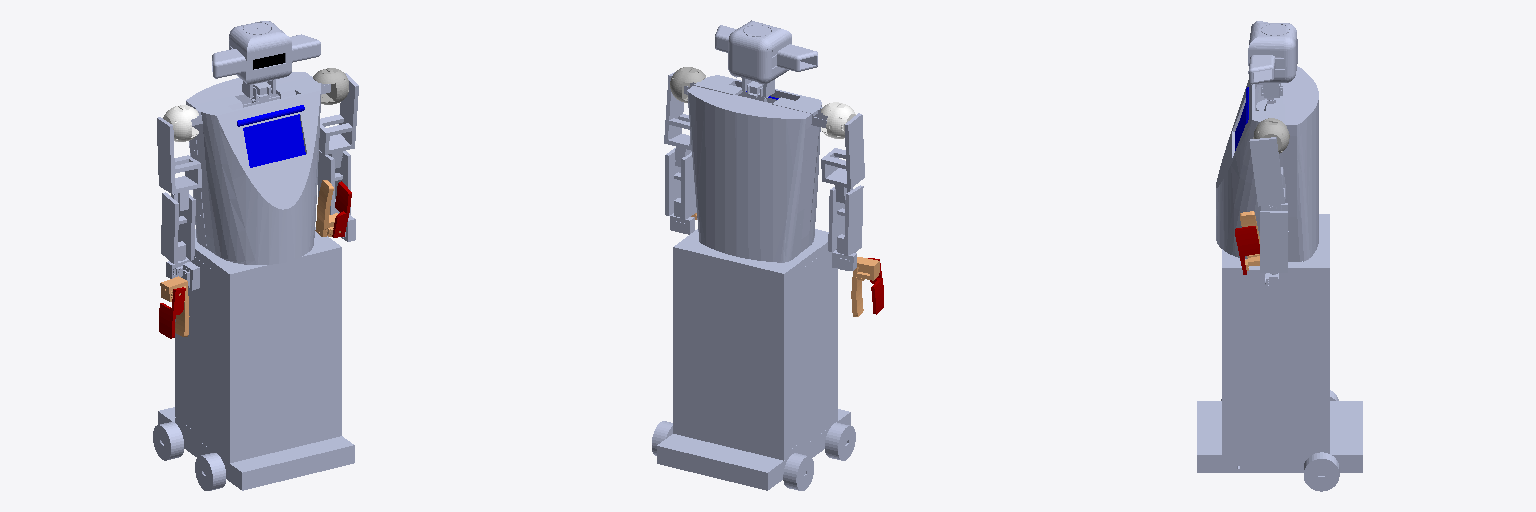
--- Render facts (derived) ---
Views: 3 orthographic renders of the robot side by side, from view 1: azimuth 30°, elevation 25°; view 2: azimuth 150°, elevation 25°; view 3: azimuth 270°, elevation 25°.
Robot: ardop3 — 24 links, 23 joints (20 continuous, 3 fixed); root link odom; default pose: all joints at 0.
Visible links, largest first — view 1: base_link, neck_head_connector_Link, tab_Link, bicep_right_Link, forearm_right_Link, bicep_left_Link, forearm_left_Link, wheel_back_right_Link, wheel_front_right_Link, shoulder_right_Link, shoulder_left_Link, wrist3_left_Link (+3 smaller); view 2: base_link, neck_head_connector_Link, bicep_right_Link, forearm_right_Link, forearm_left_Link, bicep_left_Link, wheel_front_right_Link, wheel_back_right_Link, wrist3_right_Link, shoulder_right_Link, shoulder_left_Link; view 3: base_link, neck_head_connector_Link, bicep_left_Link, forearm_left_Link, wheel_back_left_Link, shoulder_left_Link, end_effector_left_Link.
Boxes of the visible links, bbox=[...] form: base_link: bbox=[158, 72, 354, 490]; neck_head_connector_Link: bbox=[212, 21, 320, 97]; tab_Link: bbox=[237, 105, 305, 167]; bicep_right_Link: bbox=[157, 117, 201, 210]; forearm_right_Link: bbox=[161, 192, 195, 263]; bicep_left_Link: bbox=[319, 73, 358, 168]; forearm_left_Link: bbox=[318, 150, 350, 214]; wheel_back_right_Link: bbox=[153, 422, 183, 460]; wheel_front_right_Link: bbox=[195, 453, 225, 490]; shoulder_right_Link: bbox=[163, 105, 198, 141]; shoulder_left_Link: bbox=[313, 68, 348, 104]; wrist3_left_Link: bbox=[315, 180, 340, 236]; base_link: bbox=[657, 75, 850, 490]; neck_head_connector_Link: bbox=[715, 20, 817, 97]; bicep_right_Link: bbox=[821, 113, 864, 203]; forearm_right_Link: bbox=[828, 185, 863, 255]; forearm_left_Link: bbox=[665, 148, 696, 219]; bicep_left_Link: bbox=[664, 72, 691, 166]; wheel_front_right_Link: bbox=[825, 423, 855, 460]; wheel_back_right_Link: bbox=[783, 453, 813, 490]; wrist3_right_Link: bbox=[851, 257, 879, 316]; shoulder_right_Link: bbox=[821, 102, 855, 138]; shoulder_left_Link: bbox=[670, 67, 705, 102]; base_link: bbox=[1197, 66, 1362, 472]; neck_head_connector_Link: bbox=[1248, 21, 1297, 97]; bicep_left_Link: bbox=[1249, 137, 1285, 210]; forearm_left_Link: bbox=[1260, 203, 1287, 274]; wheel_back_left_Link: bbox=[1304, 452, 1339, 491]; shoulder_left_Link: bbox=[1253, 118, 1289, 153]; end_effector_left_Link: bbox=[1235, 226, 1259, 274].
Bounding box of the posed robot: 0.6288 × 0.46 × 1.3 m (x, y, z).
22 mesh visuals loaded from 23 distinct referenced files (22 binary STL); not drawn: 1 (reference not matched to a file when rendering).

URDF robot description (ardop3):
<robot
  name="ardop3">
    <link name="odom" />

  <link
    name="base_link">
    <inertial>
      <origin
        xyz="0.41454 0.49117 0.81833"
        rpy="0 0 0" />
      <mass
        value="82.585" />
      <inertia
        ixx="3.8983"
        ixy="0.029109"
        ixz="0.0006329"
        iyy="0.052412"
        iyz="-0.087697"
        izz="3.8519" />
    </inertial>
    <visual>
      <origin
        xyz="0 0 0"
        rpy="0 0 0" />
      <geometry>
        <mesh
          filename="package://ardop3/meshes/base_link.STL" />
      </geometry>
      <material
        name="">
        <color
          rgba="0.79216 0.81961 0.93333 1" />
      </material>
    </visual>
    <collision>
      <origin
        xyz="0 0 0"
        rpy="0 0 0" />
      <geometry>
        <mesh
          filename="package://ardop3/meshes/base_link.STL" />
      </geometry>
    </collision>
  </link>

      <joint
    name="odom_joint"
    type="fixed">
    <parent
      link="odom" />
    <child
      link="base_link" />
  </joint>

  
  <link
    name="tab_Link">
    <inertial>
      <origin
        xyz="3.4719E-08 0.014469 0.0053272"
        rpy="0 0 0" />
      <mass
        value="0.27518" />
      <inertia
        ixx="0"
        ixy="0"
        ixz="0"
        iyy="0"
        iyz="0"
        izz="0" />
    </inertial>
    <visual>
      <origin
        xyz="0 0 0"
        rpy="0 0 0" />
      <geometry>
        <mesh
          filename="package://ardop3/meshes/tab_Link.STL" />
      </geometry>
      <material
        name="">
        <color
          rgba="0 0 1 1" />
      </material>
    </visual>
    <collision>
      <origin
        xyz="0 0 0"
        rpy="0 0 0" />
      <geometry>
        <mesh
          filename="package://ardop3/meshes/tab_Link.STL" />
      </geometry>
    </collision>
  </link>
  <joint
    name="tab_joint"
    type="fixed">
    <origin
      xyz="0.40839 -0.90482 1.0827"
      rpy="1.2278 0 0" />
    <parent
      link="base_link" />
    <child
      link="tab_Link" />
    <axis
      xyz="0 0 0" />
  </joint>
  <link
    name="wheel_front_left_Link">
    <inertial>
      <origin
        xyz="1.1102E-16 0 0.020968"
        rpy="0 0 0" />
      <mass
        value="0.32836" />
      <inertia
        ixx="0"
        ixy="0"
        ixz="0"
        iyy="0"
        iyz="0"
        izz="0" />
    </inertial>
    <visual>
      <origin
        xyz="0 0 0"
        rpy="0 0 0" />
      <geometry>
        <mesh
          filename="package://ardop3/meshes/wheel_front_left_Link.STL" />
      </geometry>
      <material
        name="">
        <color
          rgba="0.79216 0.81961 0.93333 1" />
      </material>
    </visual>
    <collision>
      <origin
        xyz="0 0 0"
        rpy="0 0 0" />
      <geometry>
        <mesh
          filename="package://ardop3/meshes/wheel_front_left_Link.STL" />
      </geometry>
    </collision>
  </link>
  <joint
    name="wheel_front_left_joint"
    type="continuous">
    <origin
      xyz="0.60454 -0.92284 0.13262"
      rpy="1.5708 6.123E-17 1.5708" />
    <parent
      link="base_link" />
    <child
      link="wheel_front_left_Link" />
    <axis
      xyz="0 0 1" />
  </joint>
  <link
    name="wheel_front_right_Link">
    <inertial>
      <origin
        xyz="0 0 -0.021032"
        rpy="0 0 0" />
      <mass
        value="0.32836" />
      <inertia
        ixx="0"
        ixy="0"
        ixz="0"
        iyy="0"
        iyz="0"
        izz="0" />
    </inertial>
    <visual>
      <origin
        xyz="0 0 0"
        rpy="0 0 0" />
      <geometry>
        <mesh
          filename="package://ardop3/meshes/wheel_front_right_Link.STL" />
      </geometry>
      <material
        name="">
        <color
          rgba="0.79216 0.81961 0.93333 1" />
      </material>
    </visual>
    <collision>
      <origin
        xyz="0 0 0"
        rpy="0 0 0" />
      <geometry>
        <mesh
          filename="package://ardop3/meshes/wheel_front_right_Link.STL" />
      </geometry>
    </collision>
  </link>
  <joint
    name="wheel_front_right_joint"
    type="continuous">
    <origin
      xyz="0.18354 -0.92284 0.13262"
      rpy="1.5708 -0.080947 -1.5708" />
    <parent
      link="base_link" />
    <child
      link="wheel_front_right_Link" />
    <axis
      xyz="0 0 -1" />
  </joint>
  <link
    name="wheel_back_left_Link">
    <inertial>
      <origin
        xyz="0 0 0.020968"
        rpy="0 0 0" />
      <mass
        value="0.32836" />
      <inertia
        ixx="0"
        ixy="0"
        ixz="0"
        iyy="0"
        iyz="0"
        izz="0" />
    </inertial>
    <visual>
      <origin
        xyz="0 0 0"
        rpy="0 0 0" />
      <geometry>
        <mesh
          filename="package://ardop3/meshes/wheel_back_left_Link.STL" />
      </geometry>
      <material
        name="">
        <color
          rgba="0.79216 0.81961 0.93333 1" />
      </material>
    </visual>
    <collision>
      <origin
        xyz="0 0 0"
        rpy="0 0 0" />
      <geometry>
        <mesh
          filename="package://ardop3/meshes/wheel_back_left_Link.STL" />
      </geometry>
    </collision>
  </link>
  <joint
    name="wheel_back_left_joint"
    type="continuous">
    <origin
      xyz="0.60454 -0.69284 0.13262"
      rpy="1.5708 6.123E-17 1.5708" />
    <parent
      link="base_link" />
    <child
      link="wheel_back_left_Link" />
    <axis
      xyz="0 0 1" />
  </joint>
  <link
    name="wheel_back_right_Link">
    <inertial>
      <origin
        xyz="0 1.3878E-16 -0.021032"
        rpy="0 0 0" />
      <mass
        value="0.32836" />
      <inertia
        ixx="0"
        ixy="0"
        ixz="0"
        iyy="0"
        iyz="0"
        izz="0" />
    </inertial>
    <visual>
      <origin
        xyz="0 0 0"
        rpy="0 0 0" />
      <geometry>
        <mesh
          filename="package://ardop3/meshes/wheel_back_right_Link.STL" />
      </geometry>
      <material
        name="">
        <color
          rgba="0.79216 0.81961 0.93333 1" />
      </material>
    </visual>
    <collision>
      <origin
        xyz="0 0 0"
        rpy="0 0 0" />
      <geometry>
        <mesh
          filename="package://ardop3/meshes/wheel_back_right_Link.STL" />
      </geometry>
    </collision>
  </link>
  <joint
    name="wheel_back_right_joint"
    type="continuous">
    <origin
      xyz="0.18354 -0.69284 0.13262"
      rpy="-1.5708 6.123E-17 1.5708" />
    <parent
      link="base_link" />
    <child
      link="wheel_back_right_Link" />
    <axis
      xyz="0 0 -1" />
  </joint>
  <link
    name="neck_body_connector_Link">
    <inertial>
      <origin
        xyz="-0.0040697 0.0056315 -0.011816"
        rpy="0 0 0" />
      <mass
        value="0.046364" />
      <inertia
        ixx="0"
        ixy="0"
        ixz="0"
        iyy="0"
        iyz="0"
        izz="0" />
    </inertial>
    <visual>
      <origin
        xyz="0 0 0"
        rpy="0 0 0" />
      <geometry>
        <mesh
          filename="package://ardop3/meshes/neck_body_connector_Link.STL" />
      </geometry>
      <material
        name="">
        <color
          rgba="0.79216 0.81961 0.93333 1" />
      </material>
    </visual>
    <collision>
      <origin
        xyz="0 0 0"
        rpy="0 0 0" />
      <geometry>
        <mesh
          filename="package://ardop3/meshes/neck_body_connector_Link.STL" />
      </geometry>
    </collision>
  </link>
  <joint
    name="neck_body_connector_joint"
    type="continuous">
    <origin
      xyz="0.42327 -0.83378 1.1876"
      rpy="-3.1416 -6.1133E-17 -1.6271" />
    <parent
      link="base_link" />
    <child
      link="neck_body_connector_Link" />
    <axis
      xyz="0 0 -1" />
  </joint>
  <link
    name="neck_head_connector_Link">
    <inertial>
      <origin
        xyz="-0.012053 0.10794 -0.0062672"
        rpy="0 0 0" />
      <mass
        value="0.82631" />
      <inertia
        ixx="0"
        ixy="0"
        ixz="0"
        iyy="0"
        iyz="0"
        izz="0" />
    </inertial>
    <visual>
      <origin
        xyz="0 0 0"
        rpy="0 0 0" />
      <geometry>
        <mesh
          filename="package://ardop3/meshes/neck_head_connector_Link.STL" />
      </geometry>
      <material
        name="">
        <color
          rgba="0.79216 0.81961 0.93333 1" />
      </material>
    </visual>
    <collision>
      <origin
        xyz="0 0 0"
        rpy="0 0 0" />
      <geometry>
        <mesh
          filename="package://ardop3/meshes/neck_head_connector_Link.STL" />
      </geometry>
    </collision>
  </link>
  <joint
    name="neck_head_connector_joint"
    type="continuous">
    <origin
      xyz="0.0060459 0 -0.015"
      rpy="-1.5556 2.3333E-15 -1.5708" />
    <parent
      link="neck_body_connector_Link" />
    <child
      link="neck_head_connector_Link" />
    <axis
      xyz="1 0 0" />
  </joint>
  <link
    name="kinect_Link">
    <inertial>
      <origin
        xyz="0 4.4409E-16 0.015"
        rpy="0 0 0" />
      <mass
        value="0.1386" />
      <inertia
        ixx="0"
        ixy="0"
        ixz="0"
        iyy="0"
        iyz="0"
        izz="0" />
    </inertial>
    <visual>
      <origin
        xyz="0 0 0"
        rpy="0 0 0" />
      <geometry>
        <mesh
          filename="package://ardop3/meshes/kinect_Link.STL" />
      </geometry>
      <material
        name="">
        <color
          rgba="0 0 0 1" />
      </material>
    </visual>
    <collision>
      <origin
        xyz="0 0 0"
        rpy="0 0 0" />
      <geometry>
        <mesh
          filename="package://ardop3/meshes/kinect_Link.STL" />
      </geometry>
    </collision>
  </link>
  <joint
    name="kinect_joint"
    type="fixed">
    <origin
      xyz="-0.012068 0.10537 0.015436"
      rpy="1.7347E-18 1.1081E-14 2.1684E-19" />
    <parent
      link="neck_head_connector_Link" />
    <child
      link="kinect_Link" />
    <axis
      xyz="0 0 0" />
  </joint>
  <link
    name="shoulder_right_Link">
    <inertial>
      <origin
        xyz="-0.054055 -0.0035027 -0.03567"
        rpy="0 0 0" />
      <mass
        value="0.38237" />
      <inertia
         ixx="0"
        ixy="0"
        ixz="0"
        iyy="0"
        iyz="0"
        izz="0" />
    </inertial>
    <visual>
      <origin
        xyz="0 0 0"
        rpy="0 0 0" />
      <geometry>
        <mesh
          filename="package://ardop3/meshes/shoulder_right_Link.STL" />
      </geometry>
      <material
        name="">
        <color
          rgba="1 1 1 1" />
      </material>
    </visual>
    <collision>
      <origin
        xyz="0 0 0"
        rpy="0 0 0" />
      <geometry>
        <mesh
          filename="package://ardop3/meshes/shoulder_right_Link.STL" />
      </geometry>
    </collision>
  </link>
  <joint
    name="shoulder_right_joint"
    type="continuous">
    <origin
      xyz="0.18926 -0.83378 1.1036"
      rpy="0.029291 1.5708 0" />
    <parent
      link="base_link" />
    <child
      link="shoulder_right_Link" />
    <axis
      xyz="-1 0 0" />
  </joint>
  <link
    name="bicep_right_Link">
    <inertial>
      <origin
        xyz="0.048238 -0.13163 -0.0040227"
        rpy="0 0 0" />
      <mass
        value="0.43786" />
      <inertia
        ixx="0"
        ixy="0"
        ixz="0"
        iyy="0"
        iyz="0"
        izz="0" />
    </inertial>
    <visual>
      <origin
        xyz="0 0 0"
        rpy="0 0 0" />
      <geometry>
        <mesh
          filename="package://ardop3/meshes/bicep_right_Link.STL" />
      </geometry>
      <material
        name="">
        <color
          rgba="0.79216 0.81961 0.93333 1" />
      </material>
    </visual>
    <collision>
      <origin
        xyz="0 0 0"
        rpy="0 0 0" />
      <geometry>
        <mesh
          filename="package://ardop3/meshes/bicep_right_Link.STL" />
      </geometry>
    </collision>
  </link>
  <joint
    name="bicep_right_joint"
    type="continuous">
    <origin
      xyz="-0.05 0 0"
      rpy="-2.6369 1.5708 -1.1356" />
    <parent
      link="shoulder_right_Link" />
    <child
      link="bicep_right_Link" />
    <axis
      xyz="-1 0 0" />
  </joint>
  <link
    name="forearm_right_Link">
    <inertial>
      <origin
        xyz="0.0012325 -0.085388 0.031906"
        rpy="0 0 0" />
      <mass
        value="0.38487" />
      <inertia
        ixx="0"
        ixy="0"
        ixz="0"
        iyy="0"
        iyz="0"
        izz="0" />
    </inertial>
    <visual>
      <origin
        xyz="0 0 0"
        rpy="0 0 0" />
      <geometry>
        <mesh
          filename="package://ardop3/meshes/forearm_right_Link.STL" />
      </geometry>
      <material
        name="">
        <color
          rgba="0.79216 0.81961 0.93333 1" />
      </material>
    </visual>
    <collision>
      <origin
        xyz="0 0 0"
        rpy="0 0 0" />
      <geometry>
        <mesh
          filename="package://ardop3/meshes/forearm_right_Link.STL" />
      </geometry>
    </collision>
  </link>
  <joint
    name="forearm_right_joint"
    type="continuous">
    <origin
      xyz="0.011917 -0.21965 -0.0040232"
      rpy="-1.5708 1.4544 -1.5708" />
    <parent
      link="bicep_right_Link" />
    <child
      link="forearm_right_Link" />
    <axis
      xyz="0 0 -1" />
  </joint>
  <link
    name="wrist_right_Link">
    <inertial>
      <origin
        xyz="0.024413 -0.0086014 0.0033587"
        rpy="0 0 0" />
      <mass
        value="0.081001" />
      <inertia
        ixx="0"
        ixy="0"
        ixz="0"
        iyy="0"
        iyz="0"
        izz="0" />
    </inertial>
    <visual>
      <origin
        xyz="0 0 0"
        rpy="0 0 0" />
      <geometry>
        <mesh
          filename="package://ardop3/meshes/wrist_right_Link.STL" />
      </geometry>
      <material
        name="">
        <color
          rgba="0.79216 0.81961 0.93333 1" />
      </material>
    </visual>
    <collision>
      <origin
        xyz="0 0 0"
        rpy="0 0 0" />
      <geometry>
        <mesh
          filename="package://ardop3/meshes/wrist_right_Link.STL" />
      </geometry>
    </collision>
  </link>
  <joint
    name="wrist_right_joint"
    type="continuous">
    <origin
      xyz="0.00057367 -0.1794 0.021586"
      rpy="-1.7316 5.3922E-15 -1.5708" />
    <parent
      link="forearm_right_Link" />
    <child
      link="wrist_right_Link" />
    <axis
      xyz="-1 0 0" />
  </joint>
  <link
    name="wrist2_right_Link">
    <inertial>
      <origin
        xyz="0.028488 -0.0089035 0.0033302"
        rpy="0 0 0" />
      <mass
        value="0.080909" />
      <inertia
        ixx="0"
        ixy="0"
        ixz="0"
        iyy="0"
        iyz="0"
        izz="0" />
    </inertial>
    <visual>
      <origin
        xyz="0 0 0"
        rpy="0 0 0" />
      <geometry>
        <mesh
          filename="package://ardop3/meshes/wrist2_right_Link.STL" />
      </geometry>
      <material
        name="">
        <color
          rgba="0.79216 0.81961 0.93333 1" />
      </material>
    </visual>
    <collision>
      <origin
        xyz="0 0 0"
        rpy="0 0 0" />
      <geometry>
        <mesh
          filename="package://ardop3/meshes/wrist2_right_Link.STL" />
      </geometry>
    </collision>
  </link>
  <joint
    name="wrist2_right_joint"
    type="continuous">
    <origin
      xyz="0.024386 0.0016124 0.019748"
      rpy="1.7471 -1.5708 -0.15866" />
    <parent
      link="wrist_right_Link" />
    <child
      link="wrist2_right_Link" />
    <axis
      xyz="1 0 0" />
  </joint>
  <link
    name="wrist3_right_Link">
    <inertial>
      <origin
        xyz="0.023195 0.046562 -0.00062623"
        rpy="0 0 0" />
      <mass
        value="0.19239" />
      <inertia
         ixx="0"
        ixy="0"
        ixz="0"
        iyy="0"
        iyz="0"
        izz="0"/>
    </inertial>
    <visual>
      <origin
        xyz="0 0 0"
        rpy="0 0 0" />
      <geometry>
        <mesh
          filename="package://ardop3/meshes/wrist3_right_Link.STL" />
      </geometry>
      <material
        name="">
        <color
          rgba="0.98824 0.73725 0.51765 1" />
      </material>
    </visual>
    <collision>
      <origin
        xyz="0 0 0"
        rpy="0 0 0" />
      <geometry>
        <mesh
          filename="package://ardop3/meshes/wrist3_right_Link.STL" />
      </geometry>
    </collision>
  </link>
  <joint
    name="wrist3_right_joint"
    type="continuous">
    <origin
      xyz="0.028461 -0.019105 0.024924"
      rpy="2.3694 -1.5708 0.82586" />
    <parent
      link="wrist2_right_Link" />
    <child
      link="wrist3_right_Link" />
    <axis
      xyz="-1 0 0" />
  </joint>
  <link
    name="end_effector_Link">
    <inertial>
      <origin
        xyz="0.0080676 -0.013847 0.066609"
        rpy="0 0 0" />
      <mass
        value="0.07271" />
      <inertia
        ixx="0"
        ixy="0"
        ixz="0"
        iyy="0"
        iyz="0"
        izz="0" />
    </inertial>
    <visual>
      <origin
        xyz="0 0 0"
        rpy="0 0 0" />
      <geometry>
        <mesh
          filename="package://ardop3/meshes/end_effector_Link.STL" />
      </geometry>
      <material
        name="">
        <color
          rgba="0.75294 0 0 1" />
      </material>
    </visual>
    <collision>
      <origin
        xyz="0 0 0"
        rpy="0 0 0" />
      <geometry>
        <mesh
          filename="package://ardop3/meshes/end_effector_Link.STL" />
      </geometry>
    </collision>
  </link>
  <joint
    name="end_effector_joint"
    type="continuous">
    <origin
      xyz="0.043144 0.012563 0"
      rpy="-1.5708 6.9944E-15 -0.14742" />
    <parent
      link="wrist3_right_Link" />
    <child
      link="end_effector_Link" />
    <axis
      xyz="0 -1 0" />
  </joint>
  <link
    name="shoulder_left_Link">
    <inertial>
      <origin
        xyz="-0.0034764 0.054056 -0.03567"
        rpy="0 0 0" />
      <mass
        value="0.38237" />
      <inertia
        ixx="0"
        ixy="0"
        ixz="0"
        iyy="0"
        iyz="0"
        izz="0" />
    </inertial>
    <visual>
      <origin
        xyz="0 0 0"
        rpy="0 0 0" />
      <geometry>
        <mesh
          filename="package://ardop3/meshes/shoulder_left_Link.STL" />
      </geometry>
      <material
        name="">
        <color
          rgba="0.75294 0.75294 0.75294 1" />
      </material>
    </visual>
    <collision>
      <origin
        xyz="0 0 0"
        rpy="0 0 0" />
      <geometry>
        <mesh
          filename="package://ardop3/meshes/shoulder_left_Link.STL" />
      </geometry>
    </collision>
  </link>
  <joint
    name="shoulder_left_joint"
    type="continuous">
    <origin
      xyz="0.60897 -0.83378 1.1041"
      rpy="1.5708 2.1771E-14 -1.6033" />
    <parent
      link="base_link" />
    <child
      link="shoulder_left_Link" />
    <axis
      xyz="0 1 0" />
  </joint>
  <link
    name="bicep_left_Link">
    <inertial>
      <origin
        xyz="0.048238 -0.12915 0.01578"
        rpy="0 0 0" />
      <mass
        value="0.43786" />
      <inertia
        ixx="0"
        ixy="0"
        ixz="0"
        iyy="0"
        iyz="0"
        izz="0" />
    </inertial>
    <visual>
      <origin
        xyz="0 0 0"
        rpy="0 0 0" />
      <geometry>
        <mesh
          filename="package://ardop3/meshes/bicep_left_Link.STL" />
      </geometry>
      <material
        name="">
        <color
          rgba="0.79216 0.81961 0.93333 1" />
      </material>
    </visual>
    <collision>
      <origin
        xyz="0 0 0"
        rpy="0 0 0" />
      <geometry>
        <mesh
          filename="package://ardop3/meshes/bicep_left_Link.STL" />
      </geometry>
    </collision>
  </link>
  <joint
    name="bicep_left_joint"
    type="continuous">
    <origin
      xyz="0 0.05 0"
      rpy="0.12075 1.5708 0" />
    <parent
      link="shoulder_left_Link" />
    <child
      link="bicep_left_Link" />
    <axis
      xyz="1 0 0" />
  </joint>
  <link
    name="forearm_left_Link">
    <inertial>
      <origin
        xyz="0.0012327 -0.085365 0.034419"
        rpy="0 0 0" />
      <mass
        value="0.38478" />
      <inertia
        ixx="0"
        ixy="0"
        ixz="0"
        iyy="0"
        iyz="0"
        izz="0" />
    </inertial>
    <visual>
      <origin
        xyz="0 0 0"
        rpy="0 0 0" />
      <geometry>
        <mesh
          filename="package://ardop3/meshes/forearm_left_Link.STL" />
      </geometry>
      <material
        name="">
        <color
          rgba="0.79216 0.81961 0.93333 1" />
      </material>
    </visual>
    <collision>
      <origin
        xyz="0 0 0"
        rpy="0 0 0" />
      <geometry>
        <mesh
          filename="package://ardop3/meshes/forearm_left_Link.STL" />
      </geometry>
    </collision>
  </link>
  <joint
    name="forearm_left_joint"
    type="continuous">
    <origin
      xyz="0.0094281 -0.21717 0.015779"
      rpy="-1.5708 1.45 -1.5708" />
    <parent
      link="bicep_left_Link" />
    <child
      link="forearm_left_Link" />
    <axis
      xyz="0 0 1" />
  </joint>
  <link
    name="wrist_left_Link">
    <inertial>
      <origin
        xyz="0.022027 -0.0088023 0.0033302"
        rpy="0 0 0" />
      <mass
        value="0.080909" />
      <inertia
        ixx="0"
        ixy="0"
        ixz="0"
        iyy="0"
        iyz="0"
        izz="0" />
    </inertial>
    <visual>
      <origin
        xyz="0 0 0"
        rpy="0 0 0" />
      <geometry>
        <mesh
          filename="package://ardop3/meshes/wrist_left_Link.STL" />
      </geometry>
      <material
        name="">
        <color
          rgba="0.79216 0.81961 0.93333 1" />
      </material>
    </visual>
    <collision>
      <origin
        xyz="0 0 0"
        rpy="0 0 0" />
      <geometry>
        <mesh
          filename="package://ardop3/meshes/wrist_left_Link.STL" />
      </geometry>
    </collision>
  </link>
  <joint
    name="wrist_left_joint"
    type="continuous">
    <origin
      xyz="0.00057367 -0.18179 0.044293"
      rpy="1.5383 0 -1.5708" />
    <parent
      link="forearm_left_Link" />
    <child
      link="wrist_left_Link" />
    <axis
      xyz="-1 0 0" />
  </joint>
  <link
    name="wrist2_left_Link">
    <inertial>
      <origin
        xyz="0.022027 0.0089035 -9.135E-05"
        rpy="0 0 0" />
      <mass
        value="0.080909" />
      <inertia
        ixx="0"
        ixy="0"
        ixz="0"
        iyy="0"
        iyz="0"
        izz="0" />
    </inertial>
    <visual>
      <origin
        xyz="0 0 0"
        rpy="0 0 0" />
      <geometry>
        <mesh
          filename="package://ardop3/meshes/wrist2_left_Link.STL" />
      </geometry>
      <material
        name="">
        <color
          rgba="0.79216 0.81961 0.93333 1" />
      </material>
    </visual>
    <collision>
      <origin
        xyz="0 0 0"
        rpy="0 0 0" />
      <geometry>
        <mesh
          filename="package://ardop3/meshes/wrist2_left_Link.STL" />
      </geometry>
    </collision>
  </link>
  <joint
    name="wrist2_left_joint"
    type="continuous">
    <origin
      xyz="0.022 0.0011124 0.026208"
      rpy="1.5708 -1.5708 0" />
    <parent
      link="wrist_left_Link" />
    <child
      link="wrist2_left_Link" />
    <axis
      xyz="1 0 0" />
  </joint>
  <link
    name="wrist3_left_Link">
    <inertial>
      <origin
        xyz="-0.04201 0.04312 0.00086125"
        rpy="0 0 0" />
      <mass
        value="0.19239" />
      <inertia
        ixx="0"
        ixy="0"
        ixz="0"
        iyy="0"
        iyz="0"
        izz="0"/>
    </inertial>
    <visual>
      <origin
        xyz="0 0 0"
        rpy="0 0 0" />
      <geometry>
        <mesh
          filename="package://ardop3/meshes/wrist3_left_Link.STL" />
      </geometry>
      <material
        name="">
        <color
          rgba="0.98824 0.73725 0.51765 1" />
      </material>
    </visual>
    <collision>
      <origin
        xyz="0 0 0"
        rpy="0 0 0" />
      <geometry>
        <mesh
          filename="package://ardop3/meshes/wrist3_left_Link.STL" />
      </geometry>
    </collision>
  </link>
  <joint
    name="wrist3_left_joint"
    type="continuous">
    <origin
      xyz="0.022 0.019105 0.022792"
      rpy="0.17992 1.5708 0" />
    <parent
      link="wrist2_left_Link" />
    <child
      link="wrist3_left_Link" />
    <axis
      xyz="-1 0 0" />
  </joint>
  <link
    name="end_effector_left_Link">
    <inertial>
      <origin
        xyz="0.0080676 -0.015334 0.066609"
        rpy="0 0 0" />
      <mass
        value="0.07271" />
      <inertia
        ixx="0"
        ixy="0"
        ixz="0"
        iyy="0"
        iyz="0"
        izz="0" />
    </inertial>
    <visual>
      <origin
        xyz="0 0 0"
        rpy="0 0 0" />
      <geometry>
        <mesh
          filename="package://ardop3/meshes/end_effector_left_Link.STL" />
      </geometry>
      <material
        name="">
        <color
          rgba="0.75294 0 0 1" />
      </material>
    </visual>
    <collision>
      <origin
        xyz="0 0 0"
        rpy="0 0 0" />
      <geometry>
        <mesh
          filename="package://ardop3/meshes/end_effector_left_Link.STL" />
      </geometry>
    </collision>
  </link>
  <joint
    name="end_effector_left_joint"
    type="continuous">
    <origin
      xyz="-0.021641 0.0091211 0"
      rpy="-1.5708 -3.4694E-18 -0.087597" />
    <parent
      link="wrist3_left_Link" />
    <child
      link="end_effector_left_Link" />
    <axis
      xyz="0 -1 0" />
  </joint>
</robot>
